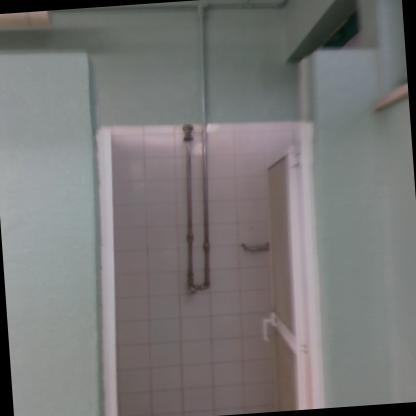open: (81, 98, 366, 415)
